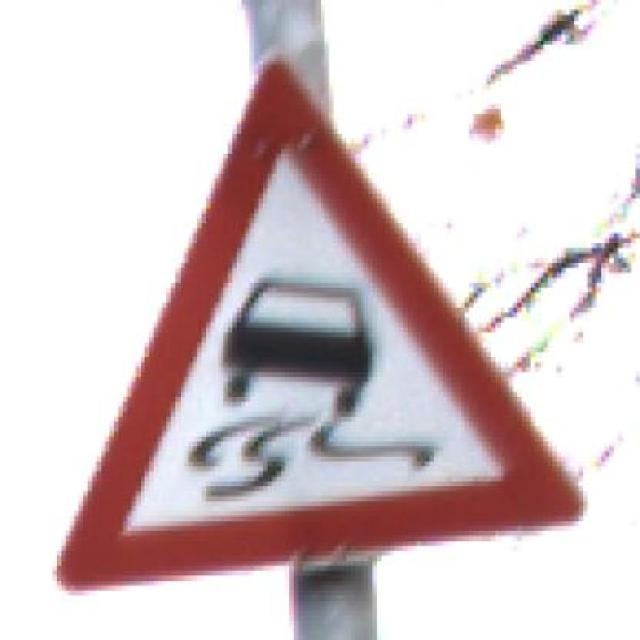Slippery Road Ahead: (48, 45, 609, 610)
